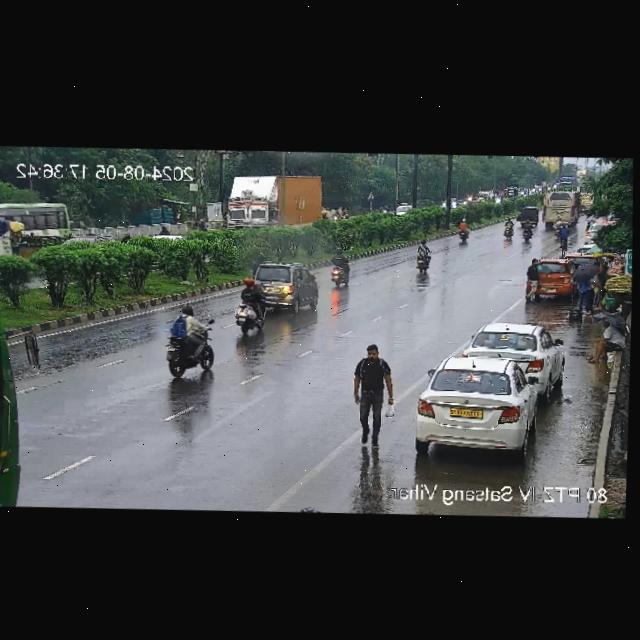bus: (0, 292, 52, 507), (0, 199, 67, 264), (536, 189, 585, 228)
car: (411, 355, 538, 455), (467, 319, 562, 387), (247, 260, 317, 313), (540, 258, 573, 294), (516, 205, 540, 226)
motorcycle: (160, 305, 223, 382), (231, 279, 276, 338), (329, 252, 352, 287), (410, 240, 433, 273), (453, 220, 470, 244), (559, 222, 571, 253), (504, 218, 516, 241), (522, 220, 532, 240)
person: (354, 342, 390, 448), (582, 315, 627, 366), (589, 259, 607, 308), (525, 258, 542, 300), (578, 278, 594, 310)
truck: (218, 169, 332, 224)
